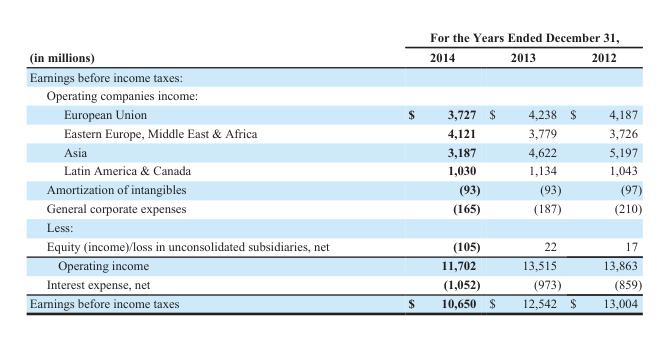table: (28, 29, 641, 309)
table column: (28, 29, 368, 309), (368, 29, 483, 309), (483, 29, 564, 309), (564, 29, 641, 309)
table column header: (28, 29, 641, 66)
table projected row header: (28, 66, 641, 85), (28, 217, 641, 236), (28, 85, 641, 103)
table row: (28, 46, 641, 66), (28, 66, 641, 85), (28, 103, 641, 122), (28, 122, 641, 141), (28, 141, 641, 160), (28, 160, 641, 179), (28, 179, 641, 198), (28, 198, 641, 217), (28, 217, 641, 236), (28, 236, 641, 255), (28, 255, 641, 274), (28, 274, 641, 293), (28, 85, 641, 103), (28, 29, 641, 46), (28, 293, 641, 309)
table spanning cell: (28, 29, 368, 66), (368, 29, 641, 46)
